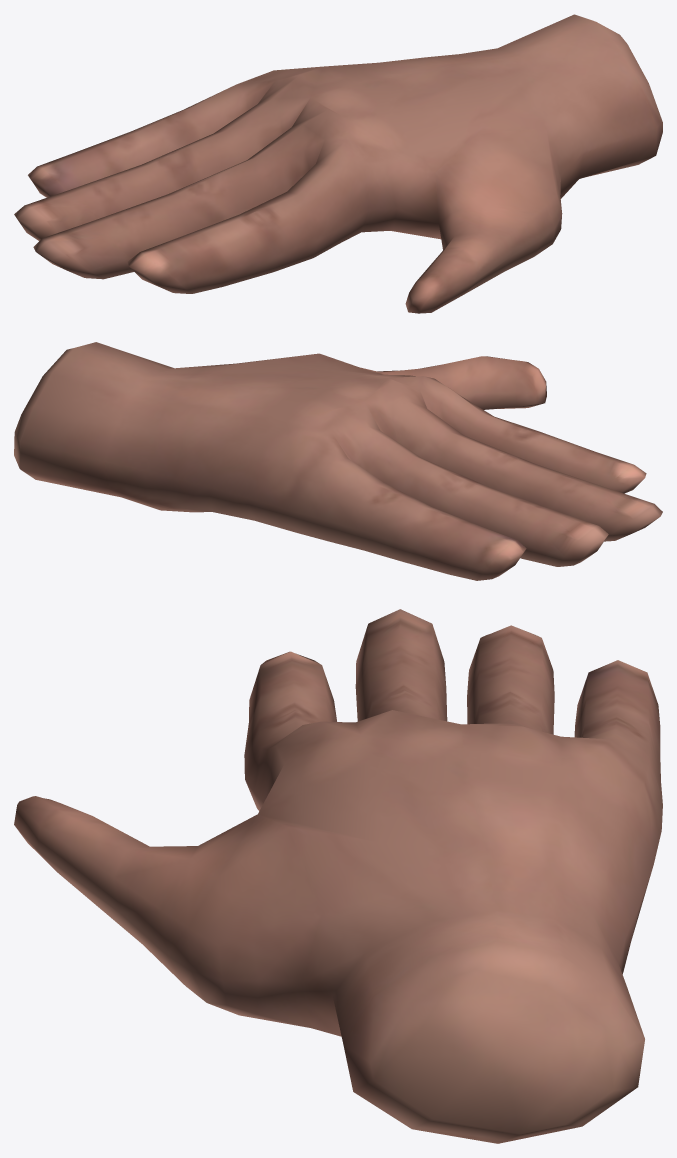
File: Right Hand.fbx
The picture shows the model from 3 angles, top to bottom: view 1: azimuth 30°, elevation 25°; view 2: azimuth 150°, elevation 25°; view 3: azimuth 270°, elevation 25°; orthographic projection. The views are drawn at different scales.
Parts seen in each view (by area): view 1: polySurface3; view 2: polySurface3; view 3: polySurface3.
Part boxes in pixels (x1,y1,x2,y2): polySurface3: (14,14,662,313); polySurface3: (14,342,662,580); polySurface3: (14,609,662,1143).
Size of the model in its own units: 22.1 by 5 by 13.93.
1 material, 1 textured.
